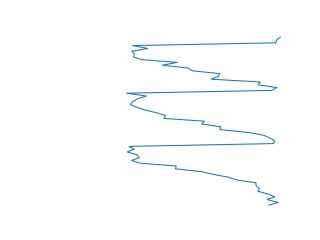distributaryMouthBar: (124, 36, 286, 208)
